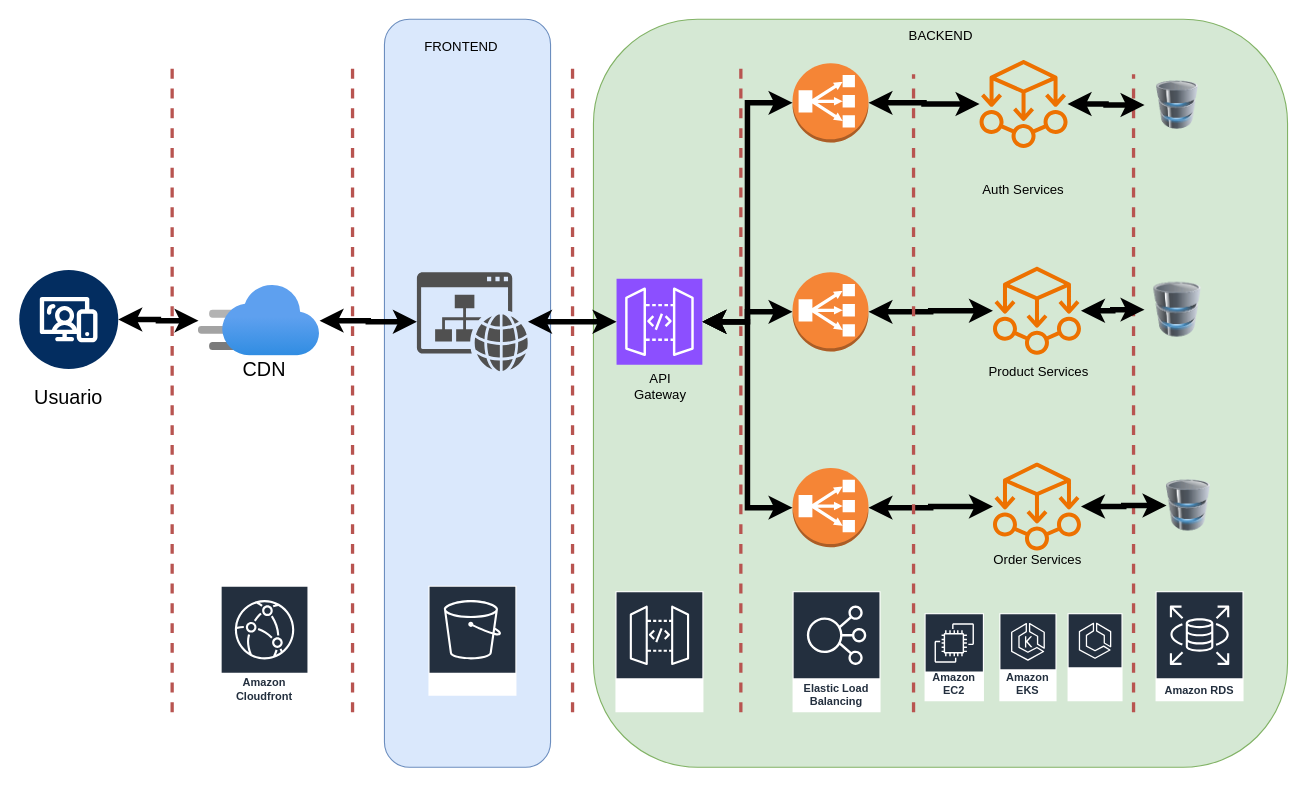
This 1307x787 diagram has some shape labels left out. The shapes that lost their labels are listed below. From the top down, each one's centre as x and y in pixels, then its label:
[471,640]: Amazon S3
[658,651]: Amazon API Gateway
[1094,656]: Amazon ECS
